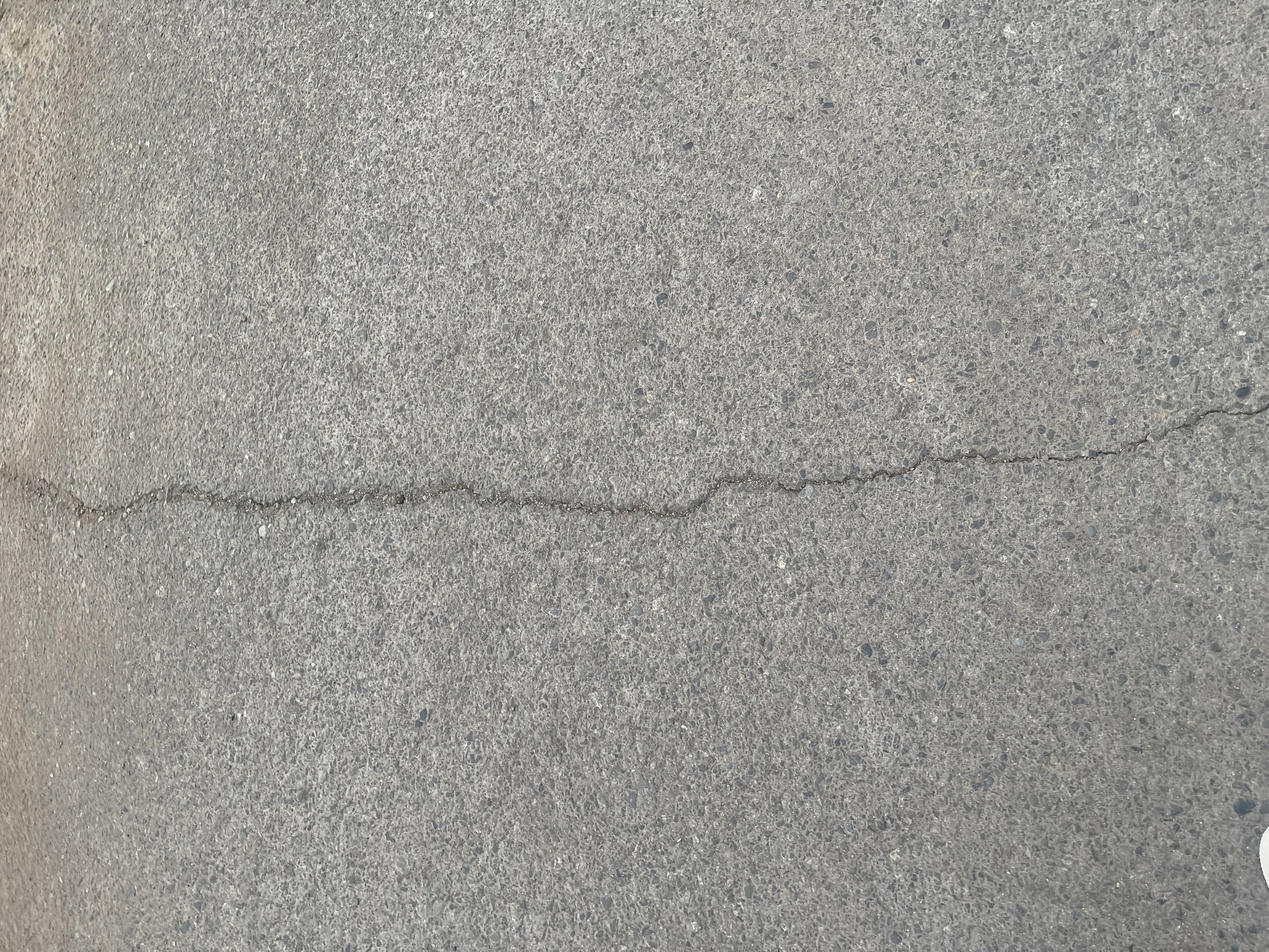GRIETA: (295, 400, 1269, 519), (0, 470, 291, 520)
